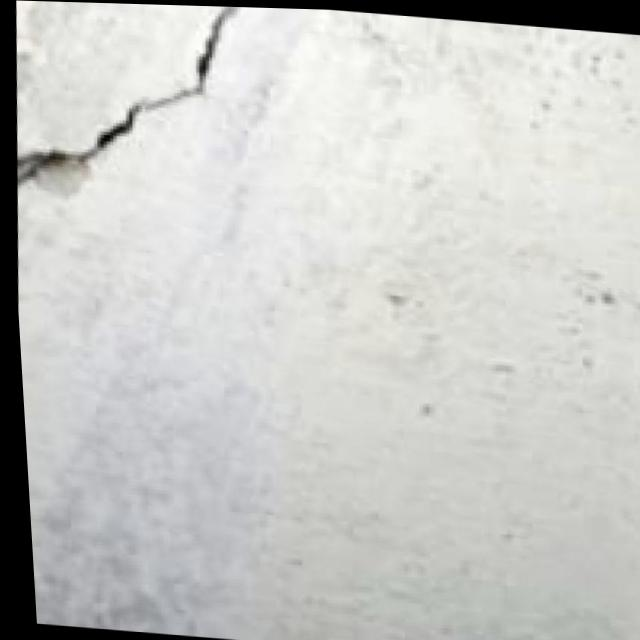Crack: (5, 0, 286, 227)
